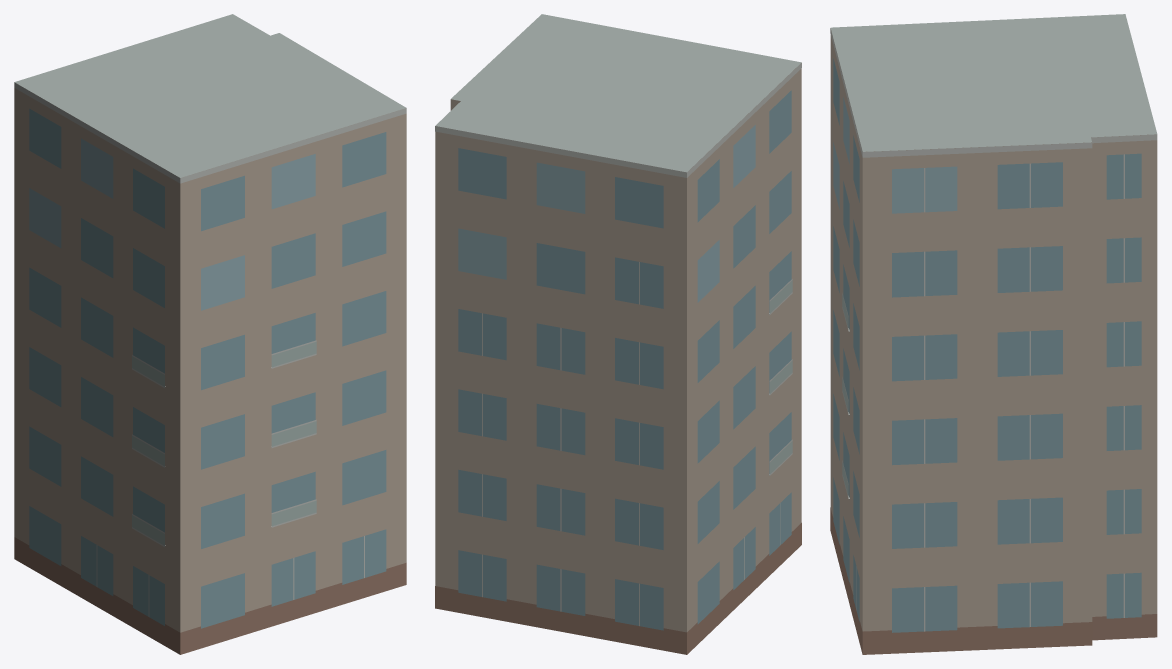
File: survey-upis-32906538.glb
3 views of the same model, side by side, from view 1: azimuth 30°, elevation 25°; view 2: azimuth 150°, elevation 25°; view 3: azimuth 270°, elevation 25° (orthographic). The views are drawn at different scales.
Parts seen in each view (by area): view 1: survey-upis-32906538.tmp; view 2: survey-upis-32906538.tmp; view 3: survey-upis-32906538.tmp.
Boxes of the visible parts, x1,y1,x2,y2 form: survey-upis-32906538.tmp: [14, 14, 406, 654]; survey-upis-32906538.tmp: [435, 14, 801, 654]; survey-upis-32906538.tmp: [830, 14, 1157, 654].
Size of the model in its own units: 12.3 by 20.9 by 12.32.
